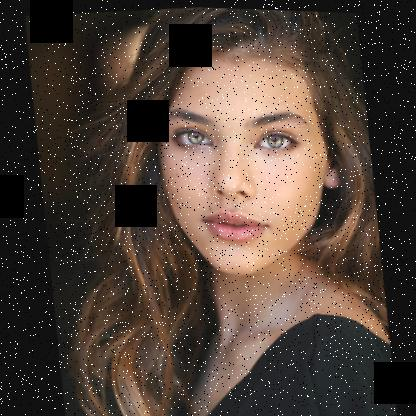Female: (147, 37, 352, 282)
